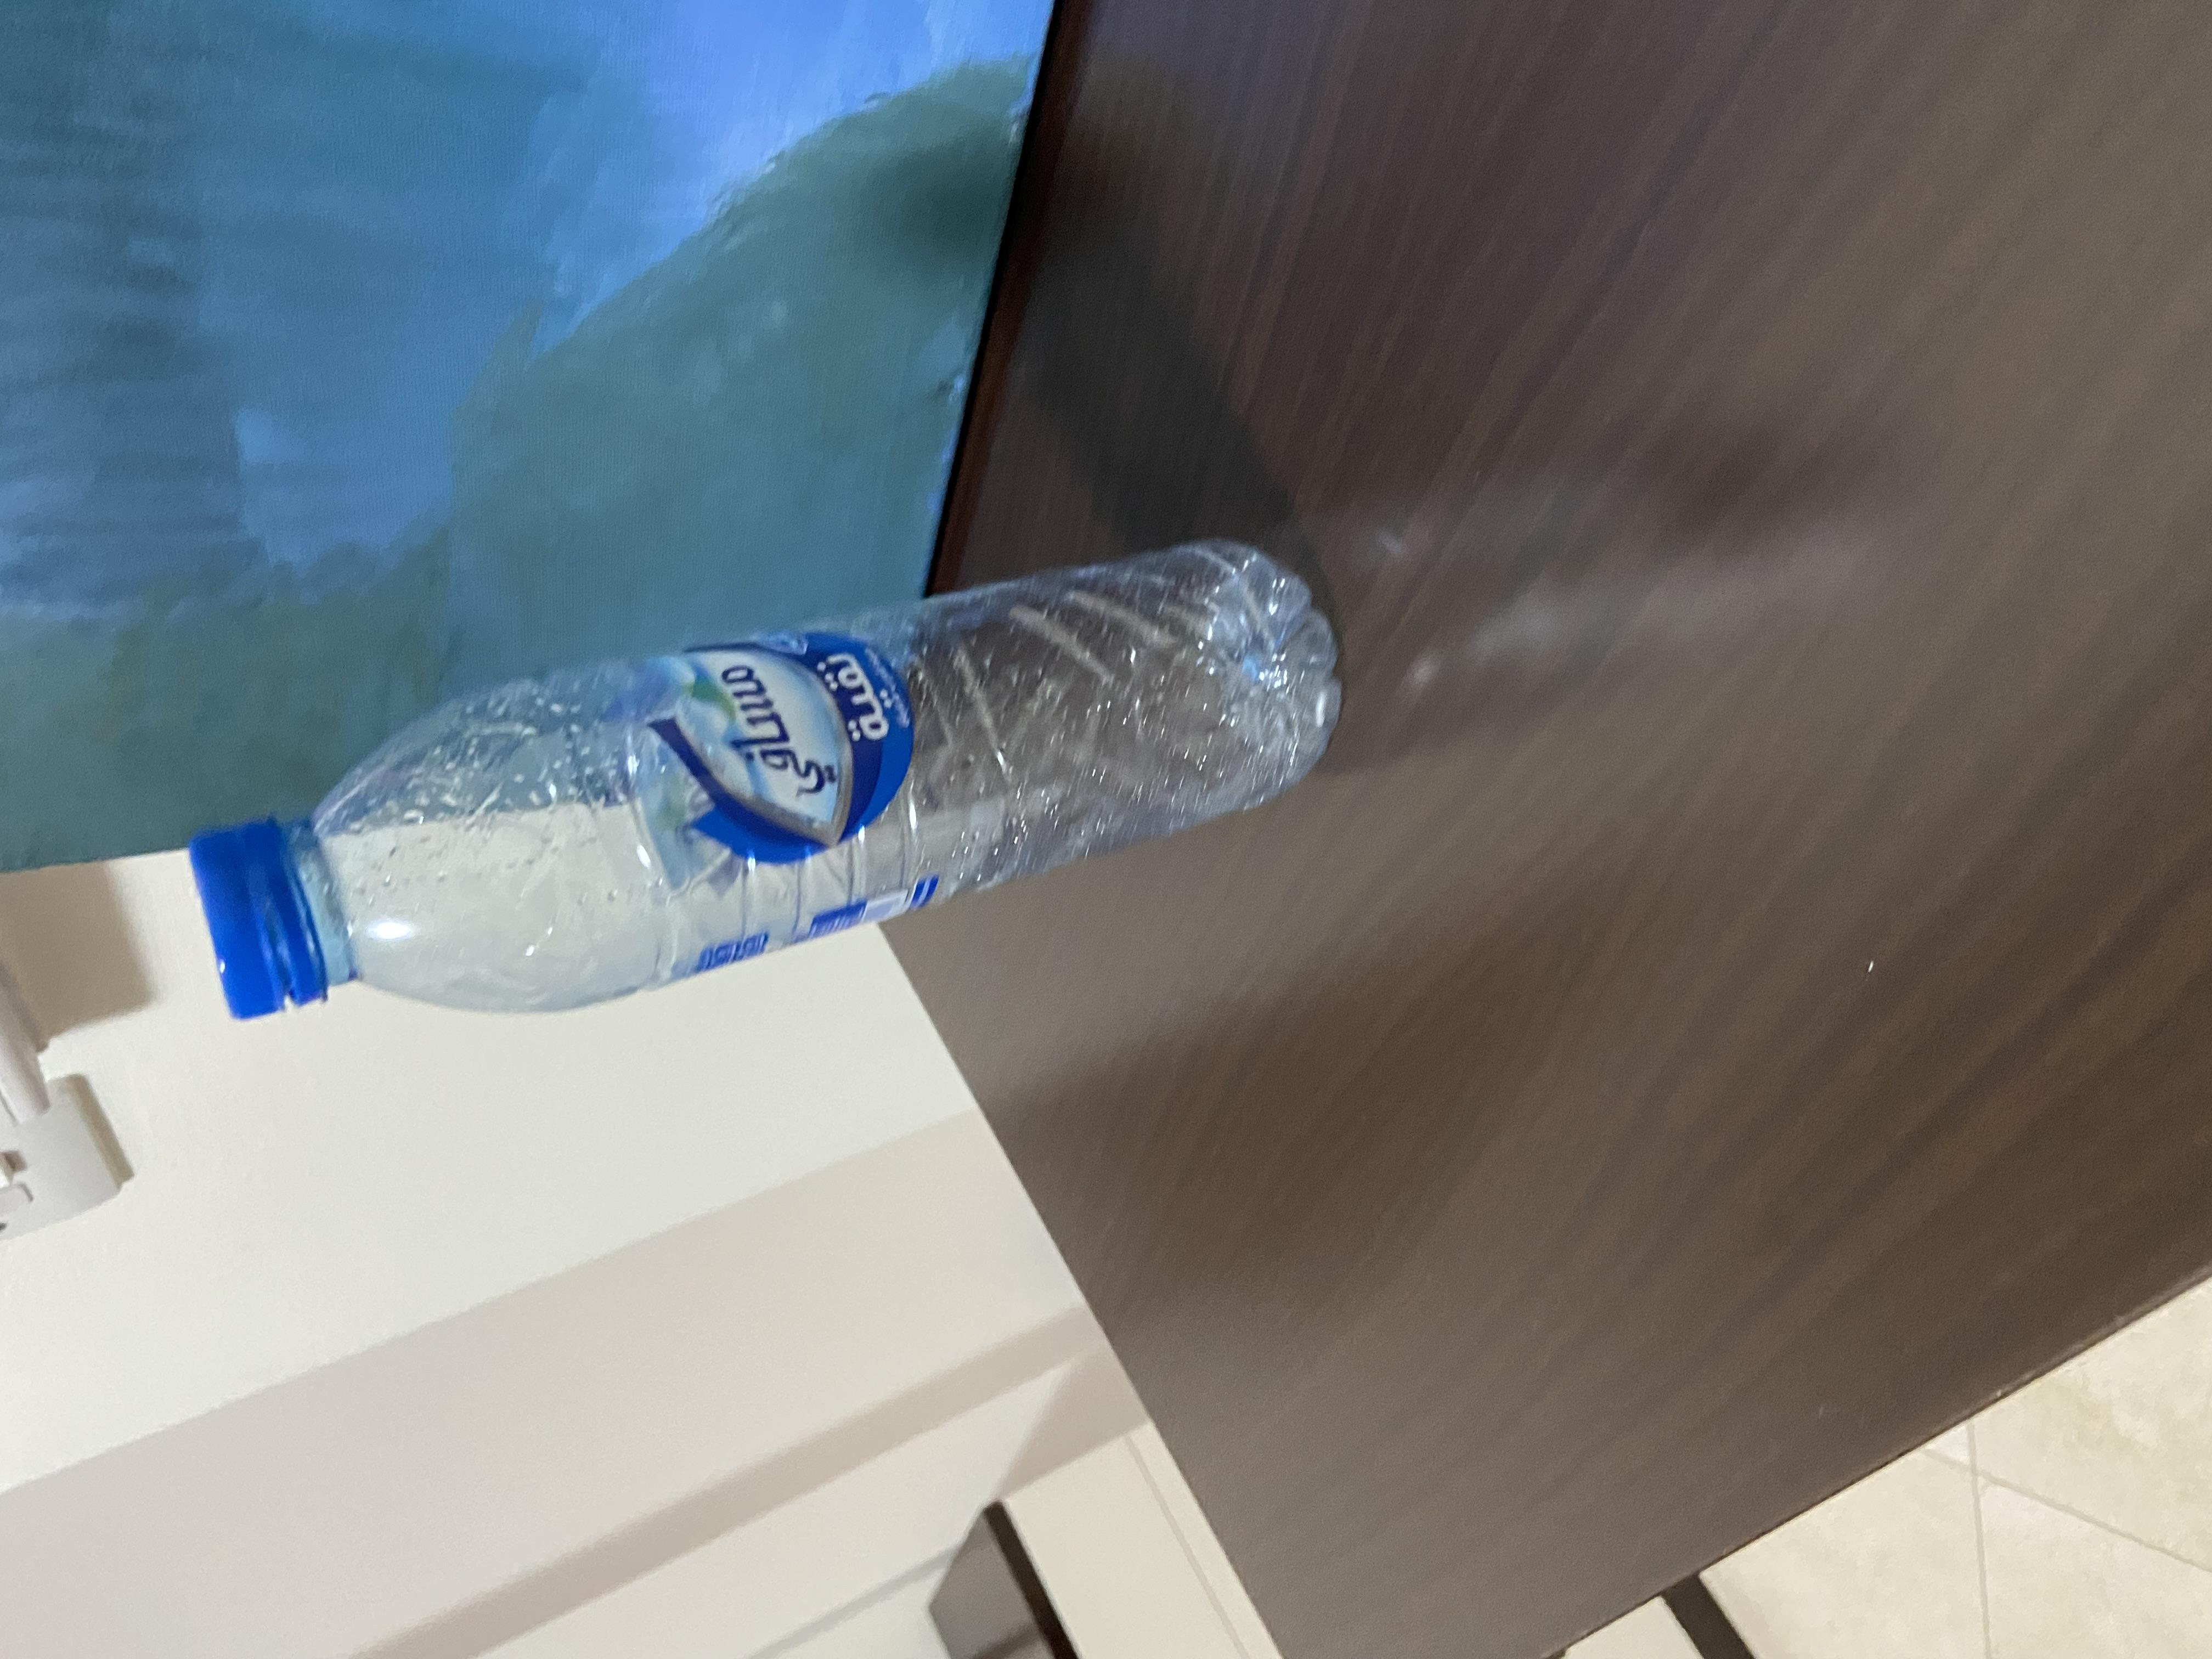bottle: (822, 120, 1531, 1004)
